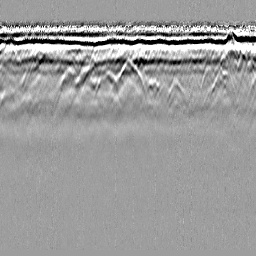cavity: (111, 56, 147, 98)
